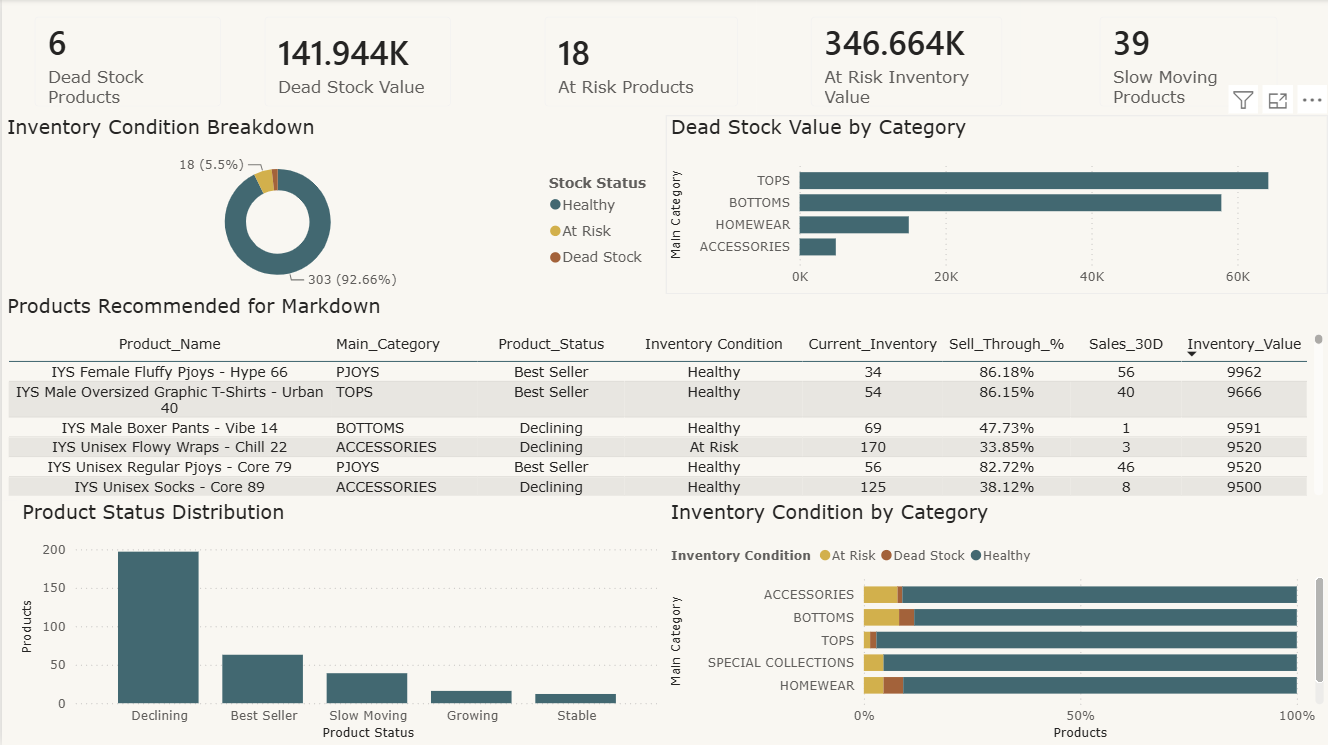

Layout of this report page (visuals, bound fields, positions):
{"tool":"powerbi","page":{"name":"Markdown & Dead Stock","canvas":[1280,720],"ordinal":2},"visuals":[{"type":"cardVisual","fields":{"Data":["Measures 1.Dead Stock Products"]},"box":[14,0,214,121.9],"z":0},{"type":"cardVisual","fields":{"Data":["Measures 1.Dead Stock Value"]},"box":[236.3,0,214,121.9],"z":1000},{"type":"cardVisual","fields":{"Data":["Measures 1.At Risk Products"]},"box":[506.9,0,221.8,121.9],"z":2000},{"type":"cardVisual","fields":{"Data":["Measures 1.At Risk Inventory Value"]},"box":[763.5,0,219.2,121.9],"z":3000},{"type":"cardVisual","fields":{"Data":["Measures 1.Slow Moving Products"]},"box":[1042.4,0,206.2,121.9],"z":4000},{"type":"donutChart","title":"Inventory Condition Breakdown","fields":{"Category":["Products.Inventory Condition"],"Y":["Count(Products.Product_ID)"]},"box":[0,112.2,640.6,172.5],"z":5000},{"type":"clusteredBarChart","title":"Dead Stock Value by Category","fields":{"Category":["Products.Main_Category"],"Y":["Measures 1.Dead Stock Value"]},"box":[640.6,112.2,639.4,172.5],"z":6000},{"type":"tableEx","title":"Products Recommended for Markdown","fields":{"Values":["Products.Product_Name","Products.Main_Category","Products.Product_Status","Products.Inventory Condition","Products.Current_Inventory","Products.Sell_Through_%","Products.Sales_30D","Products.Inventory_Value"]},"box":[0,284.6,1280.5,199.4],"z":7000},{"type":"hundredPercentStackedBarChart","title":"Inventory Condition by Category","fields":{"Category":["Products.Main_Category"],"Series":["Products.Inventory Condition"],"Y":["Count(Products.Product_ID)"]},"box":[640.3,484,640.3,236.3],"z":8000},{"type":"clusteredColumnChart","title":"Product Status Distribution","fields":{"Category":["Products.Product_Status"],"Y":["Count(Products.Product_ID)"]},"box":[14,484,626.3,236.3],"z":9000}]}

Visuals, with their boxes in screenshot pixels (x1, y1, x2, y2), scaled from the page's 1280x720 canvas onto the 1328x745 screenshot:
cardVisual - Measures 1.Dead Stock Products: bbox=(15, 0, 237, 126)
cardVisual - Measures 1.Dead Stock Value: bbox=(245, 0, 467, 126)
cardVisual - Measures 1.At Risk Products: bbox=(526, 0, 756, 126)
cardVisual - Measures 1.At Risk Inventory Value: bbox=(792, 0, 1020, 126)
cardVisual - Measures 1.Slow Moving Products: bbox=(1081, 0, 1295, 126)
"Inventory Condition Breakdown" donutChart: bbox=(0, 116, 665, 295)
"Dead Stock Value by Category" clusteredBarChart: bbox=(665, 116, 1327, 295)
"Products Recommended for Markdown" tableEx: bbox=(0, 294, 1327, 501)
"Inventory Condition by Category" hundredPercentStackedBarChart: bbox=(664, 501, 1327, 744)
"Product Status Distribution" clusteredColumnChart: bbox=(15, 501, 664, 744)
